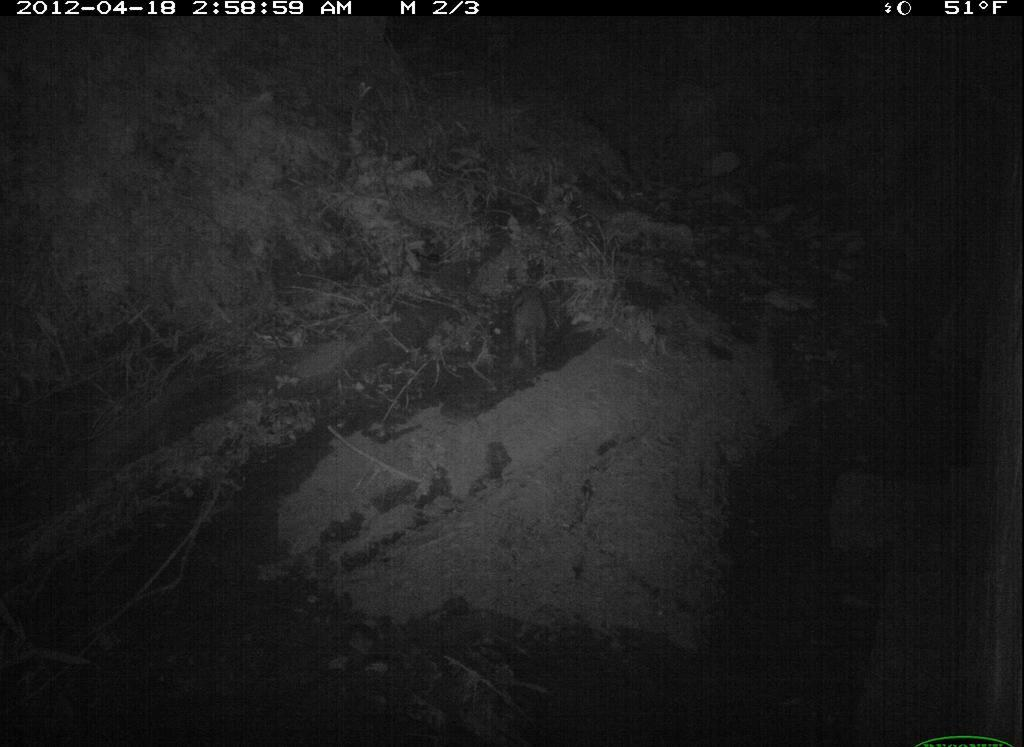opossum: (498, 268, 561, 383)
